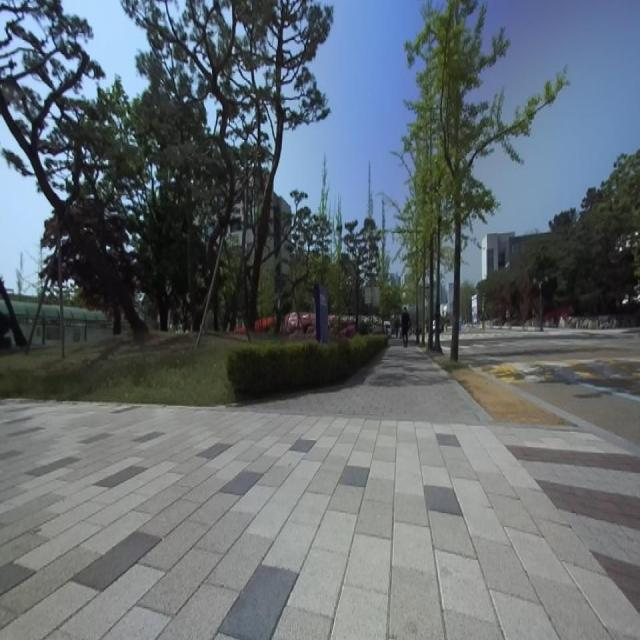sidewalk: (0, 342, 640, 639), (474, 368, 640, 456)
